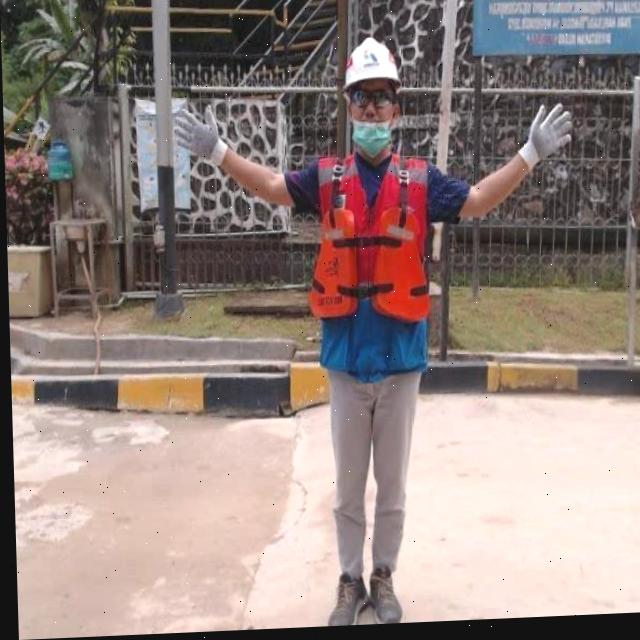Gloves: (173, 105, 228, 171), (525, 105, 574, 168)
Helmet: (340, 38, 405, 89)
Safety-Boot: (323, 575, 366, 629), (366, 567, 401, 628)
Safety-Vest: (303, 152, 433, 330)
